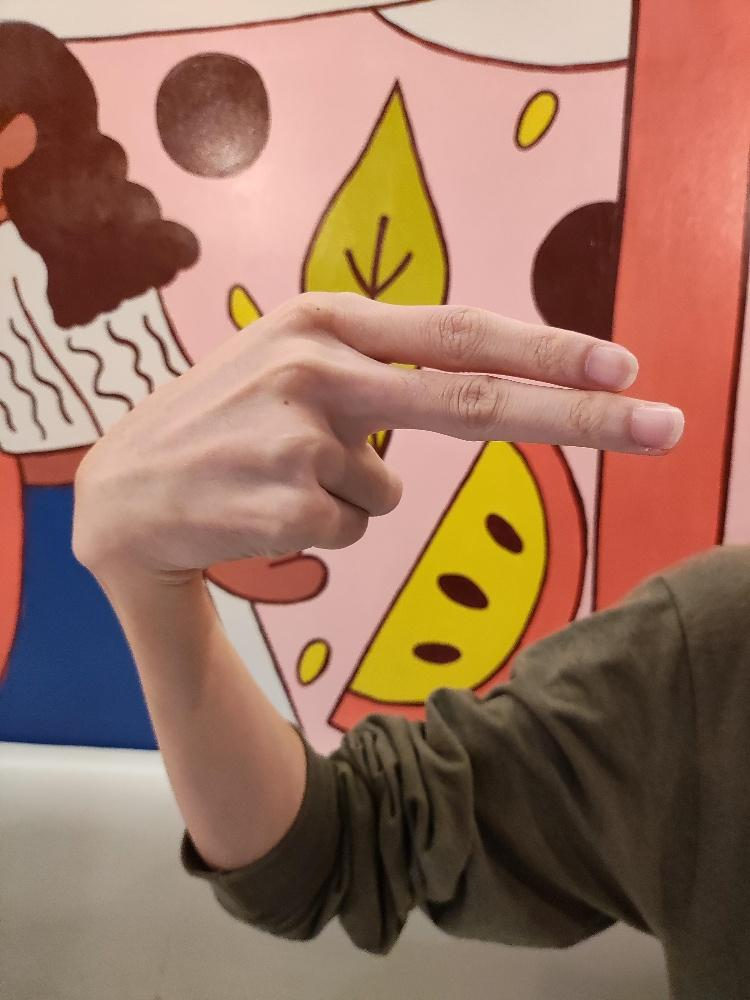h: (68, 284, 688, 585)
